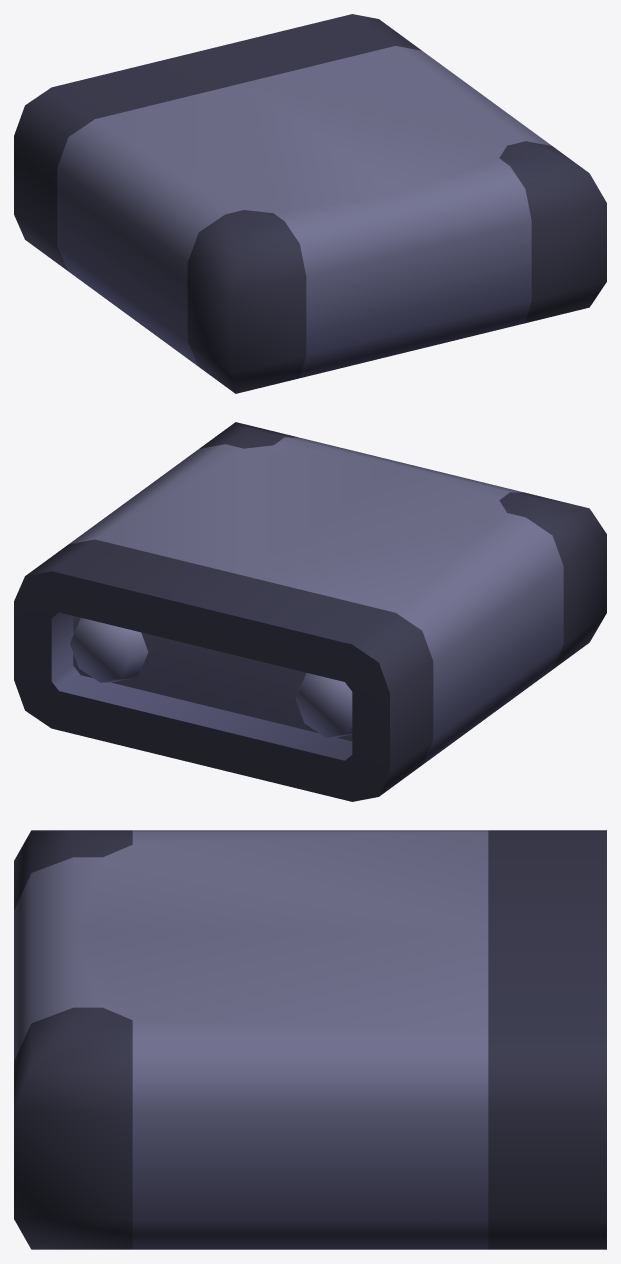
Rendered from conveyor-stripe-junction-t.glb.
3 renders of one model, top to bottom at view 1: azimuth 30°, elevation 25°; view 2: azimuth 150°, elevation 25°; view 3: azimuth 270°, elevation 25°, orthographic. The views are drawn at different scales.
Parts seen in each view (by area): view 1: conveyor-stripe-junction-t; view 2: conveyor-stripe-junction-t; view 3: conveyor-stripe-junction-t.
Boxes of the visible parts, <box> form: conveyor-stripe-junction-t: <box>14,14,606,393</box>; conveyor-stripe-junction-t: <box>14,422,606,801</box>; conveyor-stripe-junction-t: <box>14,830,606,1249</box>.
Size of the model in its own units: 1 by 0.4 by 1.
